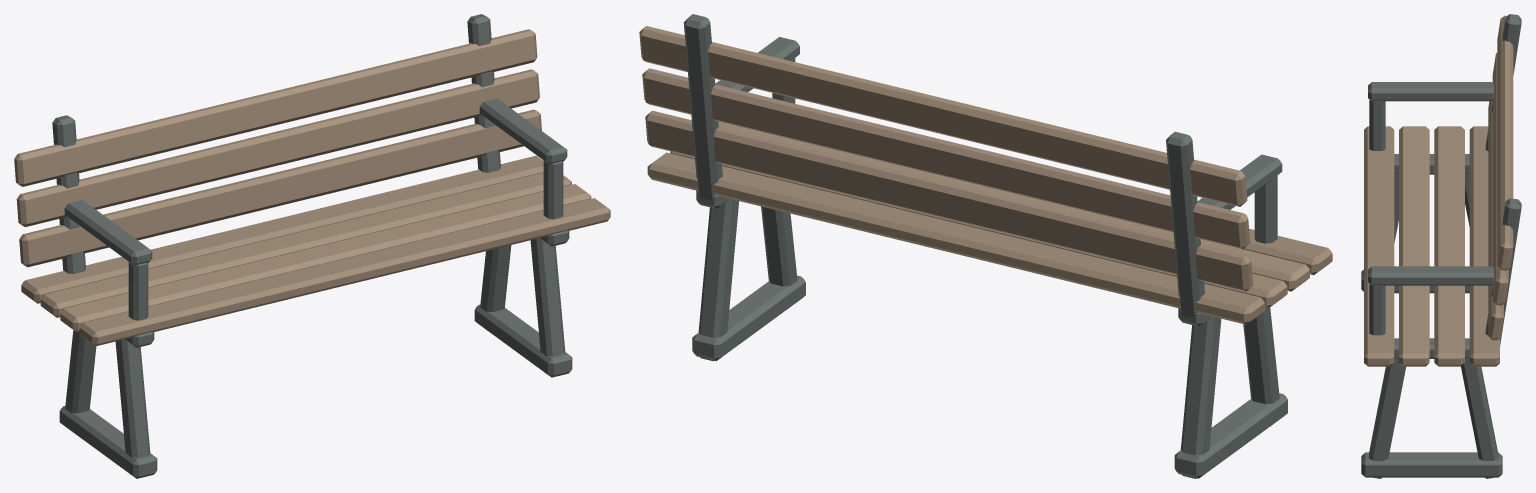
File: bench_seat.glb
The picture shows the model from 3 angles, left to right: view 1: azimuth 30°, elevation 25°; view 2: azimuth 150°, elevation 25°; view 3: azimuth 270°, elevation 25°; orthographic projection. The views are drawn at different scales.
Visible parts, largest first — view 1: BenchSeat; view 2: BenchSeat; view 3: BenchSeat.
Boxes of the visible parts, x1,y1,x2,y2 form: BenchSeat: (14,14,610,478); BenchSeat: (639,14,1332,478); BenchSeat: (1361,14,1521,478).
Bounding box in the file's own units: 1.7 × 0.9491 × 0.4993.
